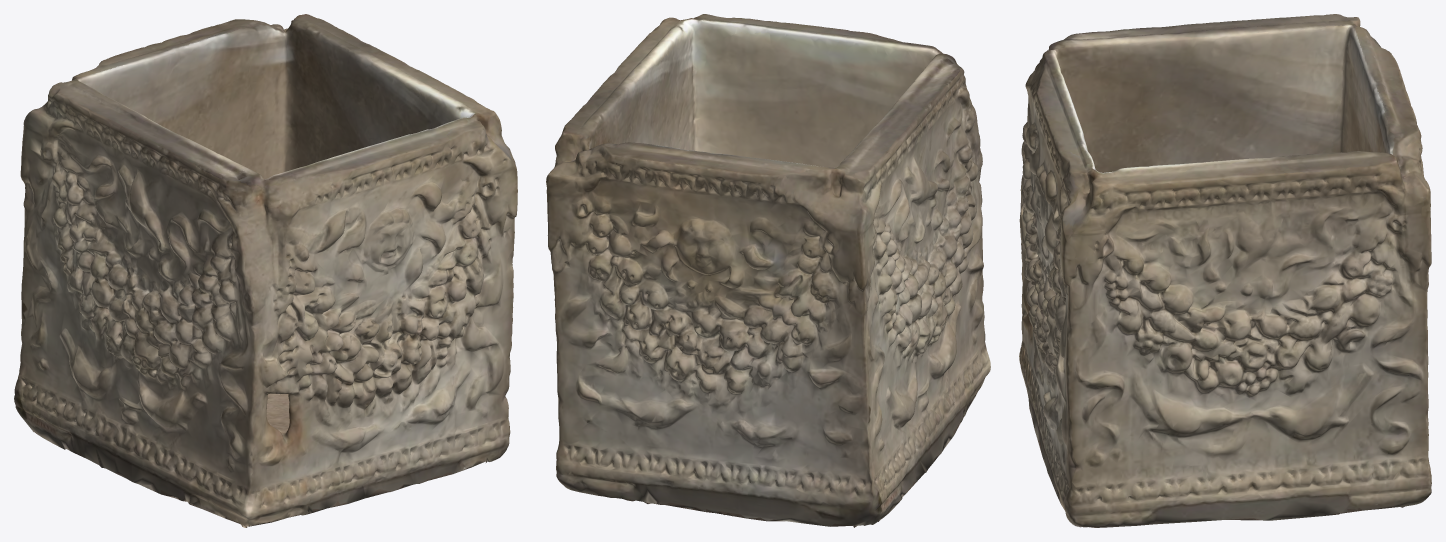
File: preview.glb
The picture shows the model from 3 angles, left to right: view 1: azimuth 30°, elevation 25°; view 2: azimuth 150°, elevation 25°; view 3: azimuth 270°, elevation 25°; orthographic projection. The views are drawn at different scales.
Visible parts, largest first — view 1: Object_2; view 2: Object_2; view 3: Object_2.
Part boxes in pixels (left/top/right/bottom): Object_2: left=14, top=14, right=517, bottom=527; Object_2: left=546, top=14, right=990, bottom=527; Object_2: left=1019, top=14, right=1431, bottom=527.
Bounding box in the file's own units: 502 × 480 × 495.
Materials: 1 (1 with a texture image).
